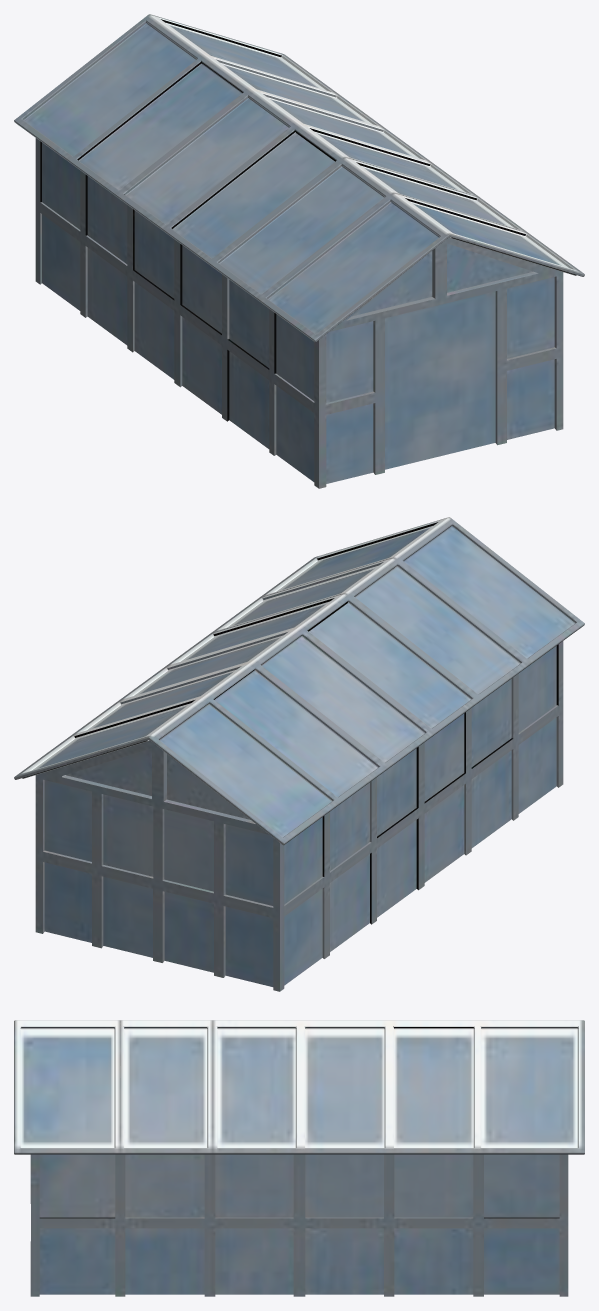
Rendered from greenhouse.glb.
The picture shows the model from 3 angles, top to bottom: view 1: azimuth 30°, elevation 25°; view 2: azimuth 150°, elevation 25°; view 3: azimuth 270°, elevation 25°; orthographic projection. The views are drawn at different scales.
Visible parts, largest first — view 1: Cube.006; view 2: Cube.006; view 3: Cube.006.
Part boxes in pixels (x1,y1,x2,y2): Cube.006: [14, 14, 584, 488]; Cube.006: [14, 517, 584, 991]; Cube.006: [14, 1020, 584, 1296].
Bounding box in the file's own units: 2.97 × 2.42 × 5.71.
1 material, 1 textured.
